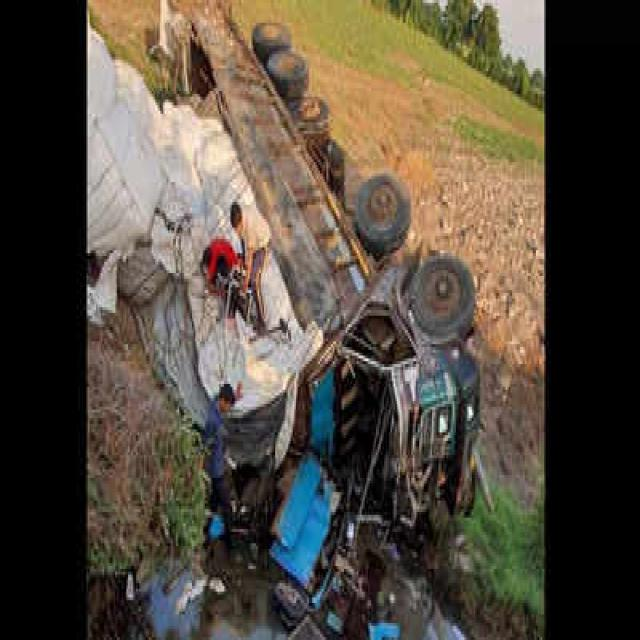accident: (192, 9, 480, 637)
